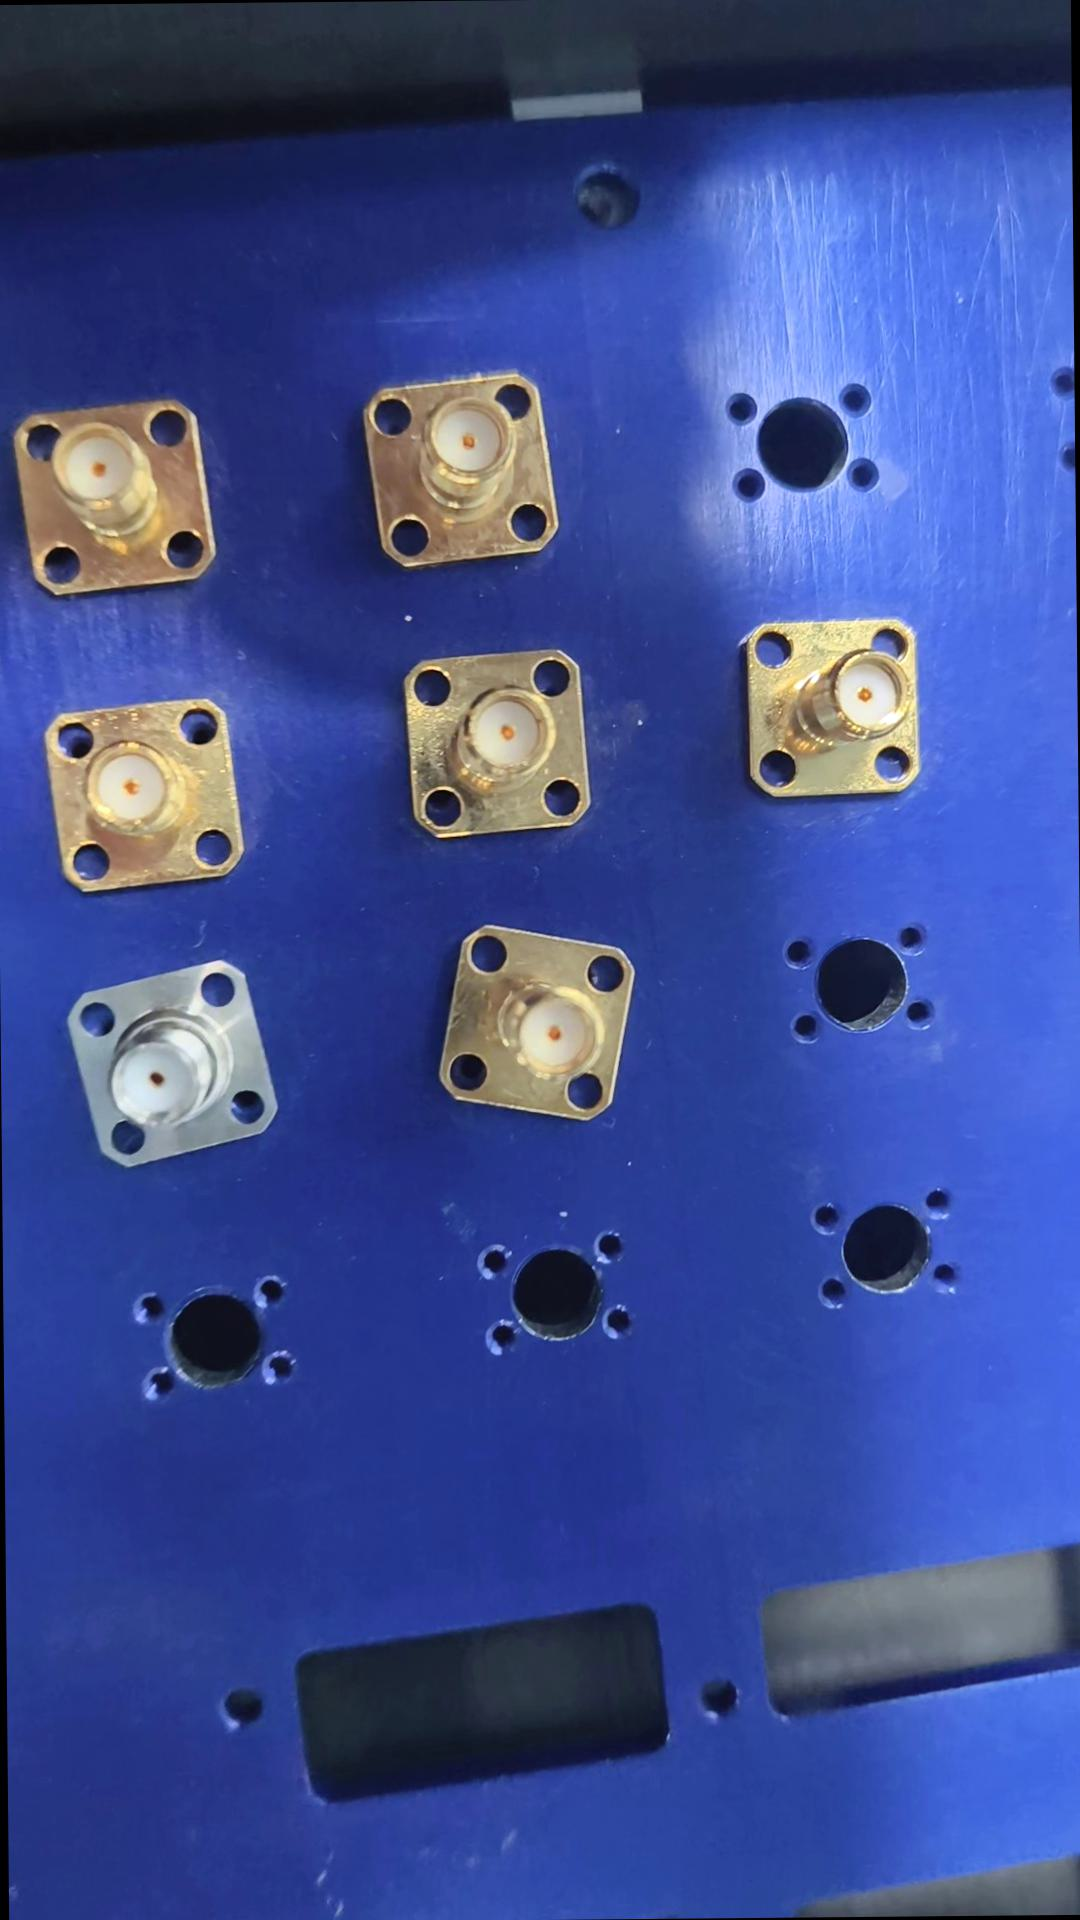SMA: (70, 952, 299, 1176), (51, 692, 256, 906), (438, 918, 647, 1124), (398, 647, 609, 851), (359, 369, 575, 564), (13, 410, 231, 604), (741, 612, 935, 804)
